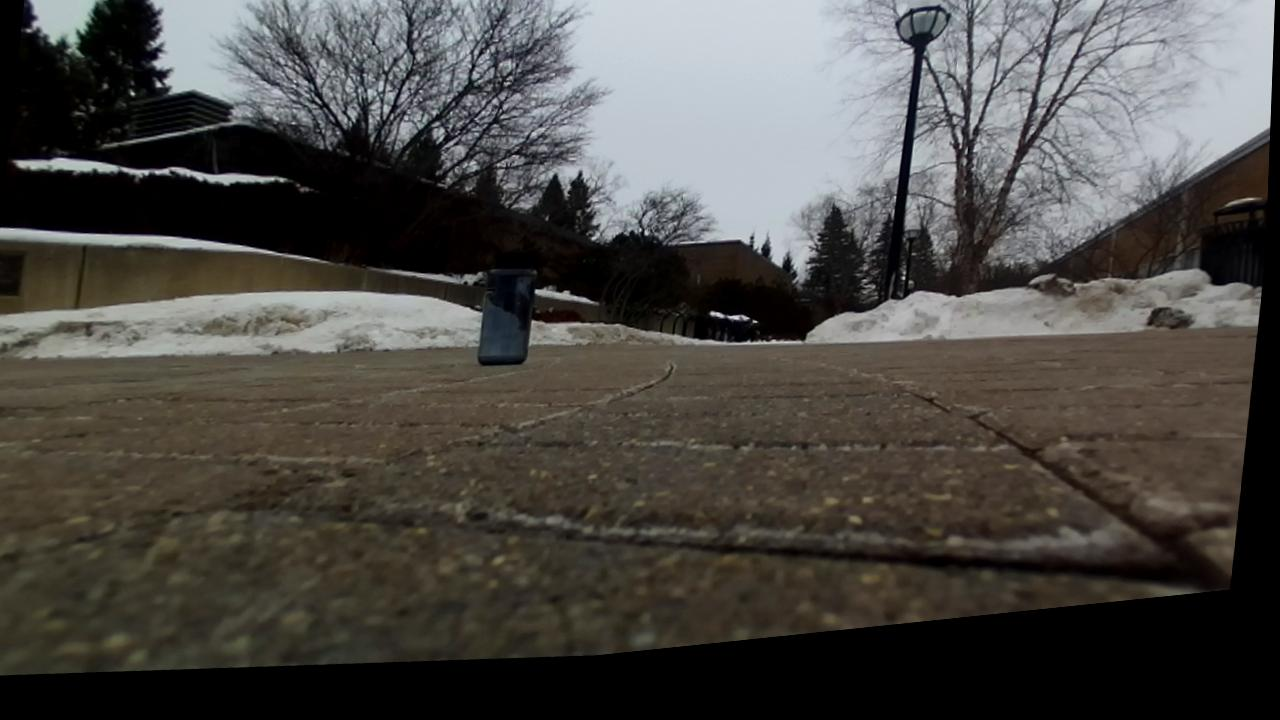bottle: (478, 251, 536, 364)
